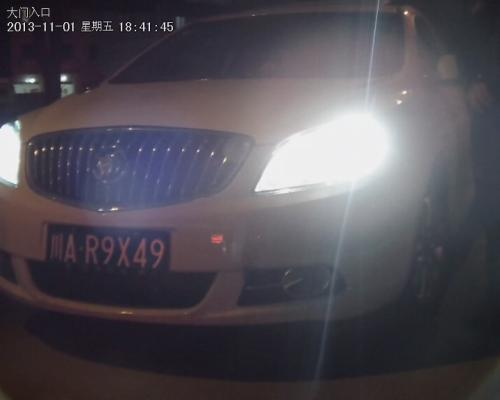Carplate: (38, 223, 173, 280)
